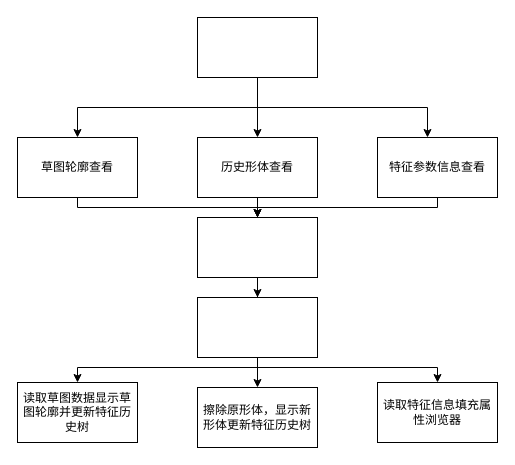
The diagram is 515 pixels wide and 465 high, and some of its shapes have lost their labels. Here are the shapes that lost their labels. From the top down, the centre of each, then its label:
(257,47): 建模历史查看
(257,247): 树节点信号发送
(257,327): 由树节点在特征历史树中的X、Y坐标从数据模型Map容器中取得对应的特征对象
